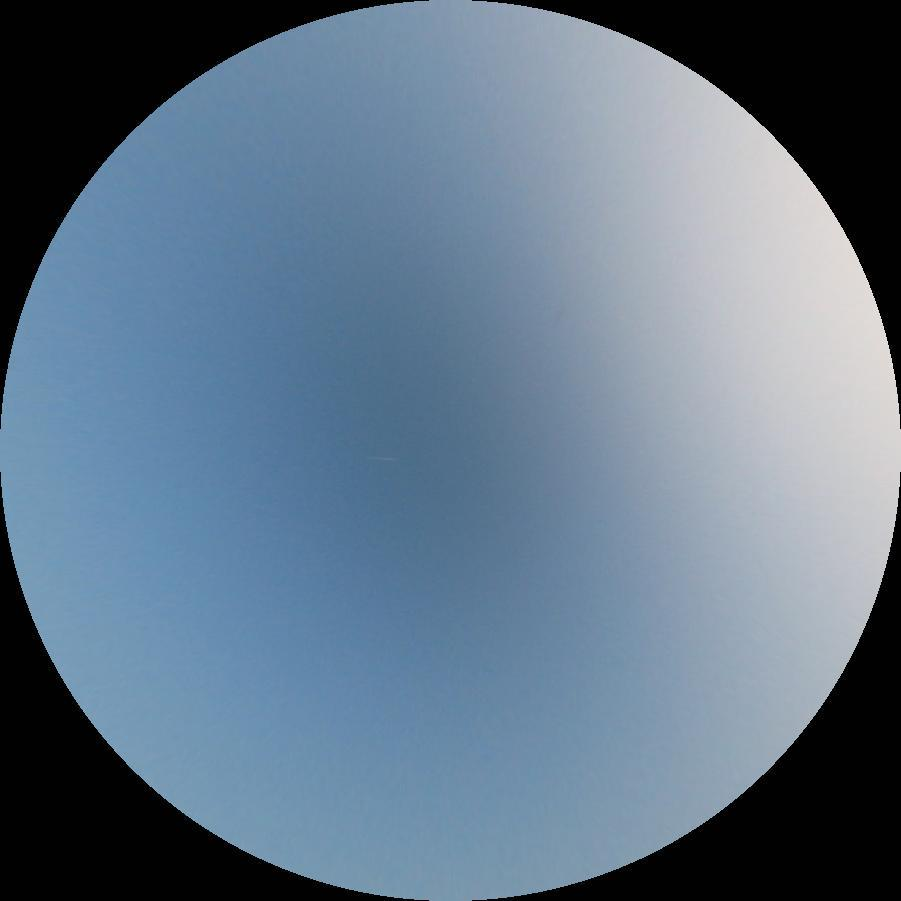contrail young: (369, 456, 397, 462)
